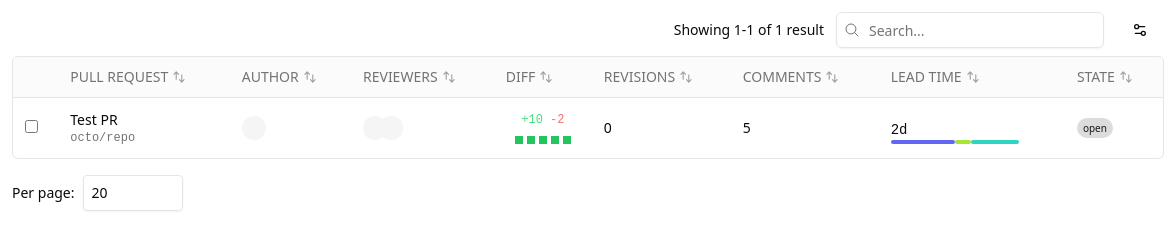
it: MetricsTable additional coverage (merged) › enables view button after selecting a single row
Click the checkbox: point(32, 126) [25,120,38,132]
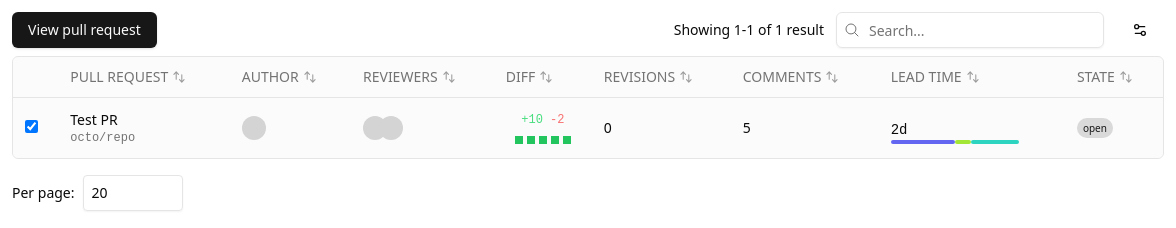
Check: the button "View pull request" is enabled, box [12,12,157,48]
